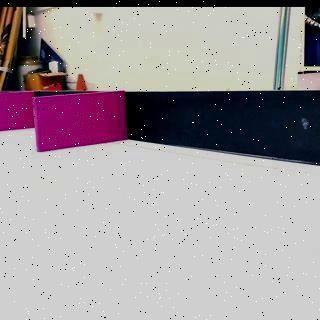xparking: (36, 98, 126, 148), (1, 93, 30, 131)
